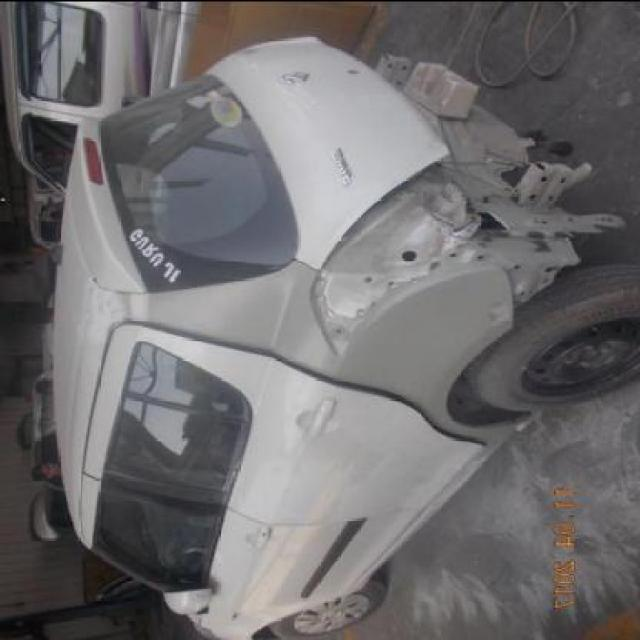damage: (307, 57, 619, 358), (116, 258, 532, 453)
